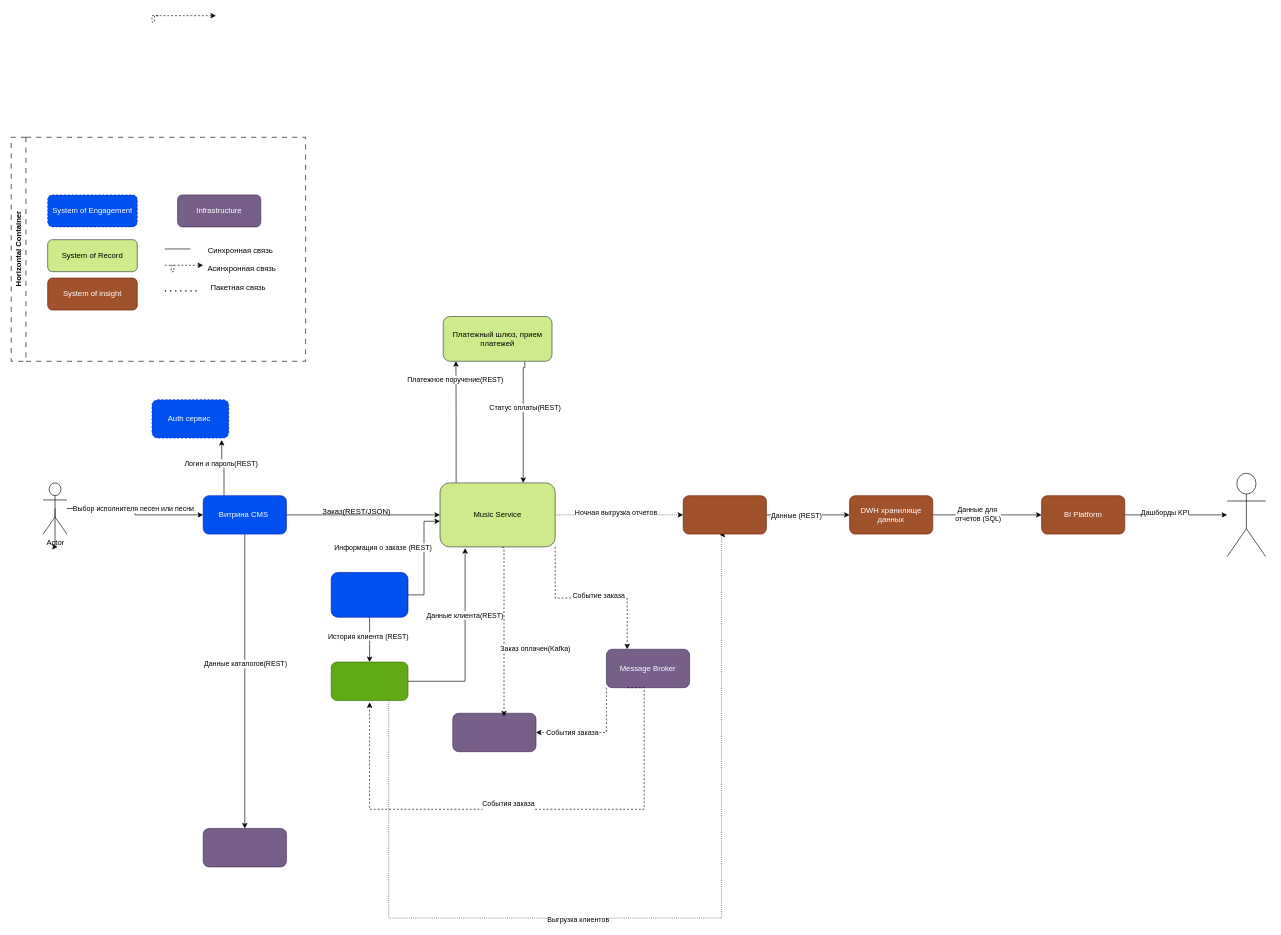
This 1281x935 diagram has some shape labels left out. Here are the shapes that lost their labels. From the top down, the centre of each, then its label:
At [724,514]: "Recommendation Service".
At [1246,514]: "Менеджмент".
At [369,594]: "Helpdesk поддержка".
At [369,680]: "CRM , профиль пользователя".
At [494,732]: "Email Service".
At [244,847]: "Cash Service(Redis)".
